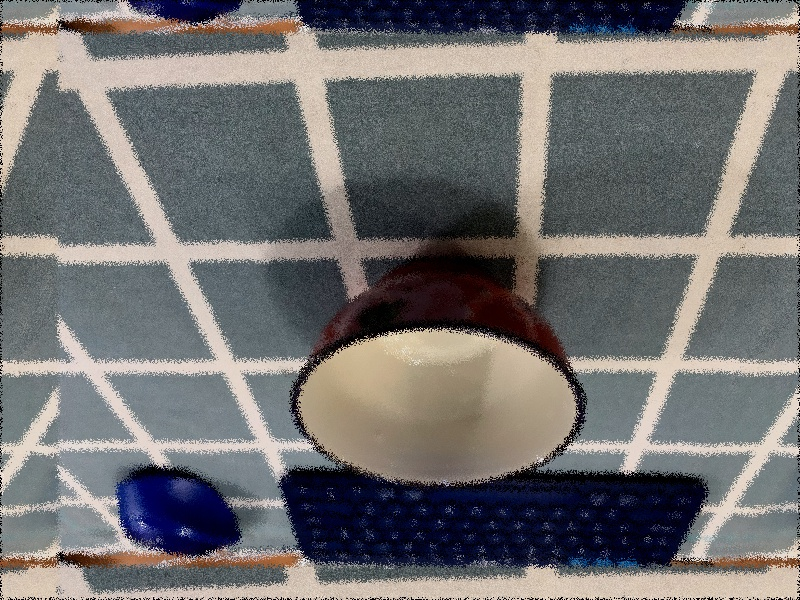bowl_small: (282, 250, 589, 492)
